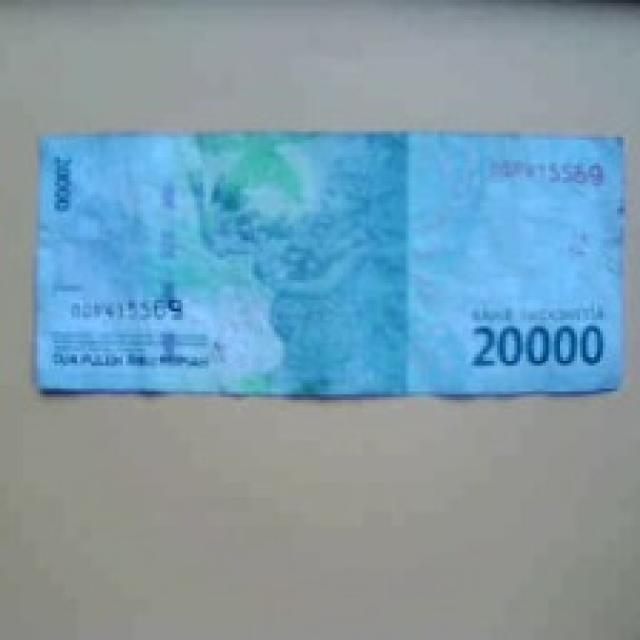dua puluh ribu rupiah: (19, 90, 640, 600)
